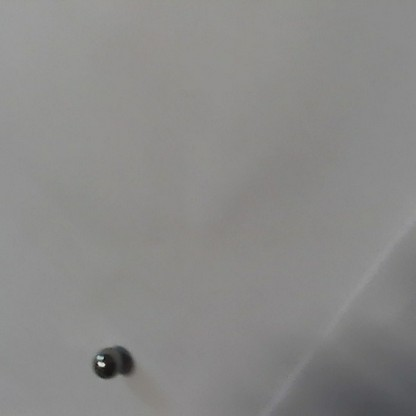ironball: (91, 346, 124, 379)
